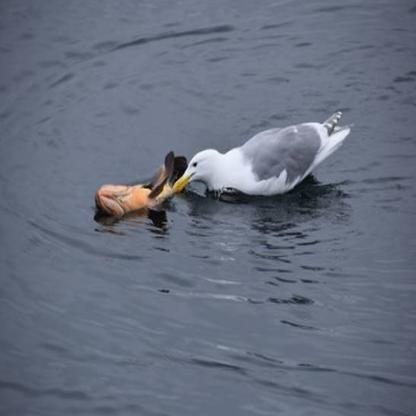deceased fish: (84, 163, 177, 222)
